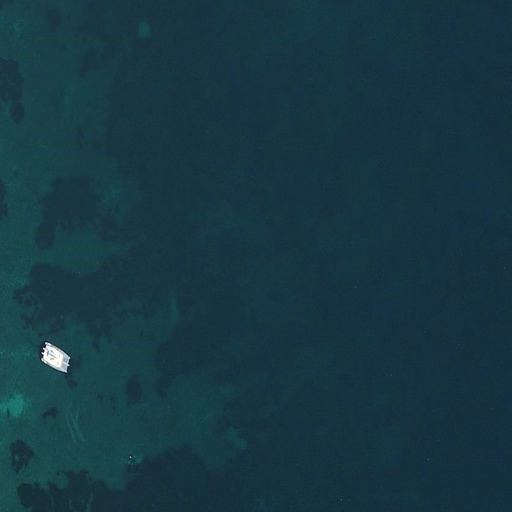ship: (39, 338, 73, 377)
